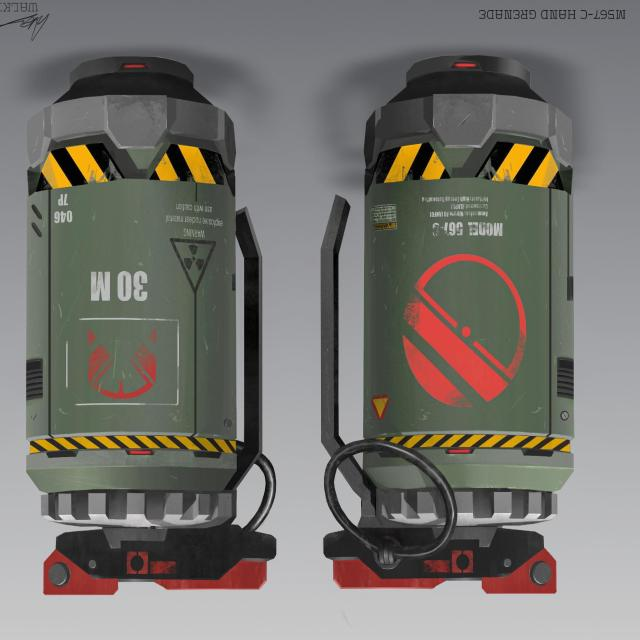grenade: (321, 56, 575, 600), (26, 57, 278, 597)
